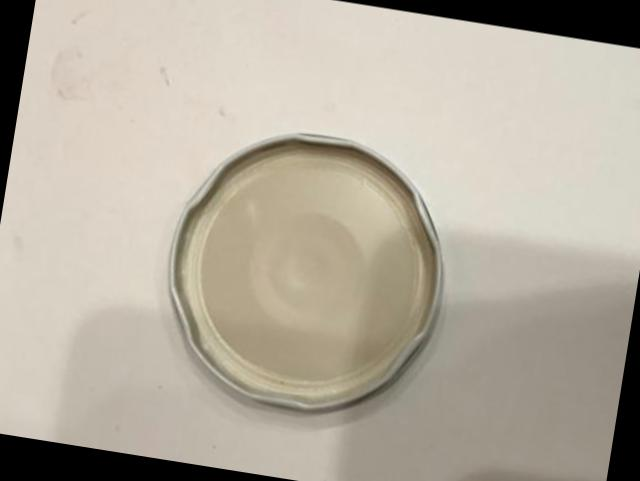metal: (167, 131, 439, 406)
